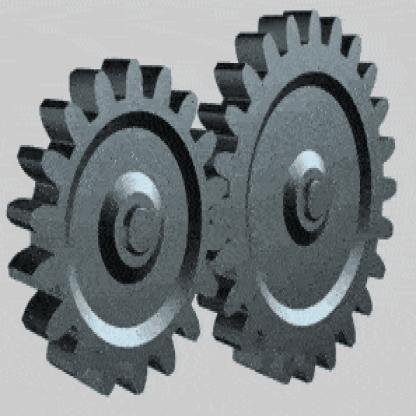FOD: (4, 49, 230, 398), (202, 7, 397, 390)
